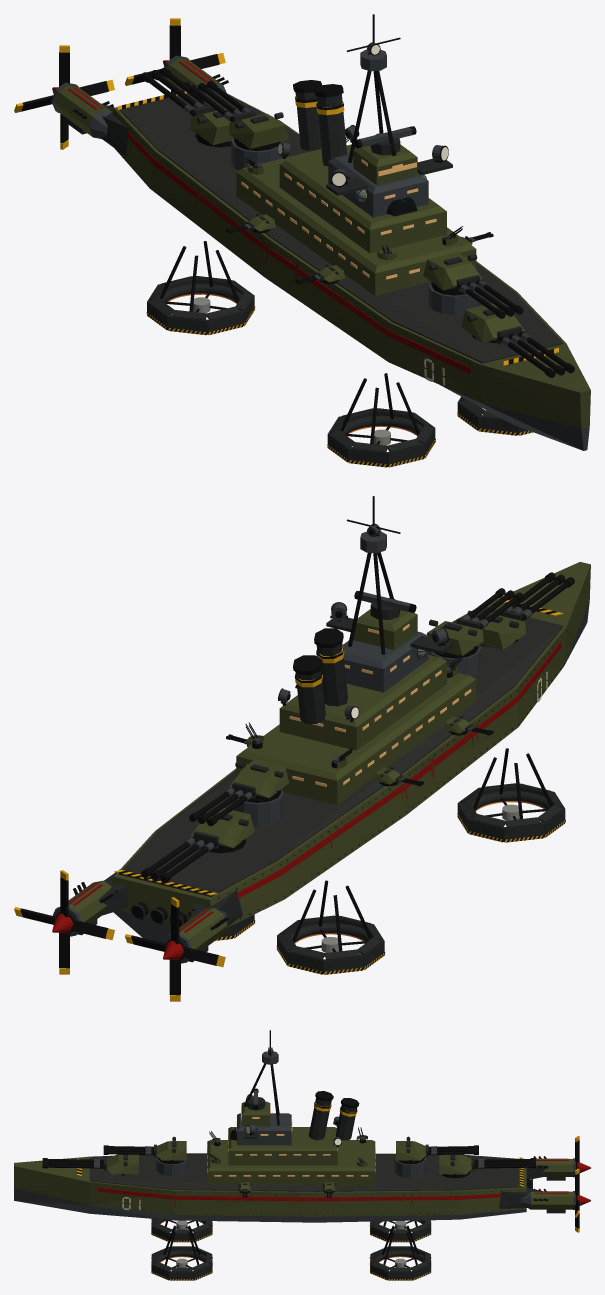
File: cruiser.obj
3 renders of one model, top to bottom at view 1: azimuth 30°, elevation 25°; view 2: azimuth 150°, elevation 25°; view 3: azimuth 270°, elevation 25°, orthographic. The views are drawn at different scales.
Parts seen in each view (by area): view 1: cruiser; view 2: cruiser; view 3: cruiser.
Part boxes in pixels (left/top/right/bottom): cruiser: left=14, top=14, right=590, bottom=467; cruiser: left=14, top=496, right=590, bottom=1001; cruiser: left=14, top=1030, right=590, bottom=1280.
Bounding box in the file's own units: 211 × 334 × 800.
1 material, 1 textured.
